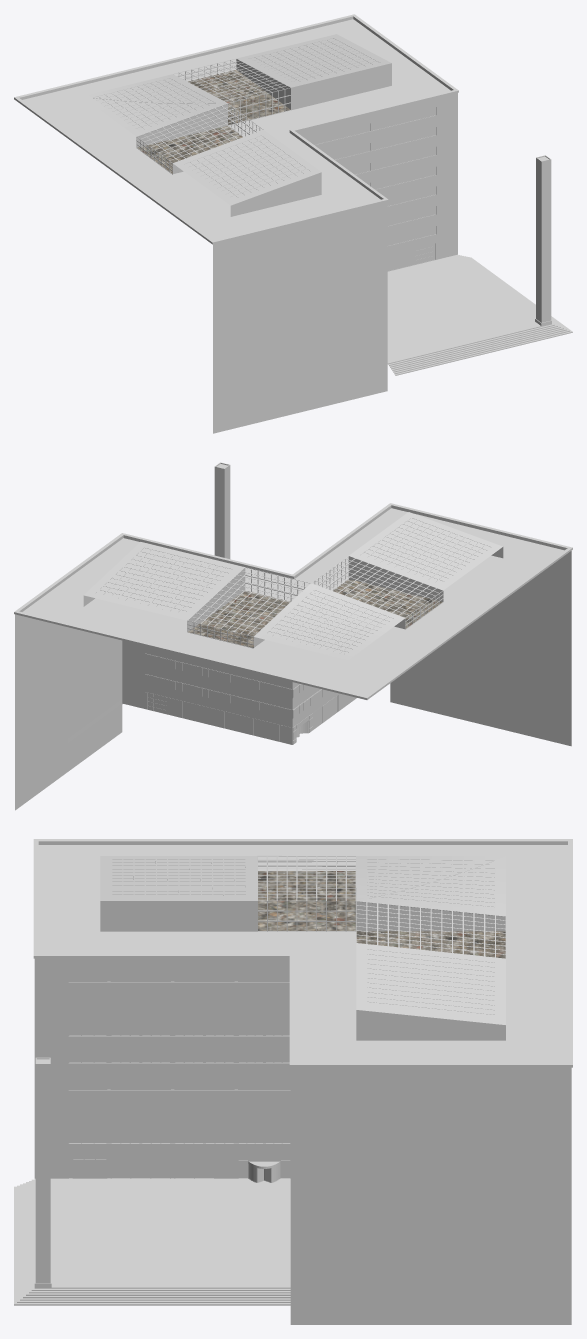
3 views of the same model, one above another, from view 1: azimuth 30°, elevation 25°; view 2: azimuth 150°, elevation 25°; view 3: azimuth 270°, elevation 25° (orthographic). The views are drawn at different scales.
Parts seen in each view (by area): view 1: Patro, Strecha, Strecha_Budka, Spodek; view 2: Patro, Strecha_Budka, Strecha, Spodek; view 3: Patro, Spodek, Strecha, Strecha_Budka.
Boxes of the visible parts, box(x1,y1,x2,y2) form: Patro: box(213, 99, 457, 389); Strecha: box(14, 14, 458, 250); Strecha_Budka: box(81, 34, 391, 216); Spodek: box(213, 155, 572, 433); Patro: box(15, 555, 571, 764); Strecha_Budka: box(83, 512, 503, 659); Strecha: box(14, 503, 572, 699); Spodek: box(15, 462, 571, 810); Patro: box(34, 967, 571, 1264); Spodek: box(14, 1057, 571, 1324); Strecha: box(33, 839, 572, 1075); Strecha_Budka: box(100, 855, 505, 1040).
Size of the model in its own units: 6530 by 3736 by 6588.
